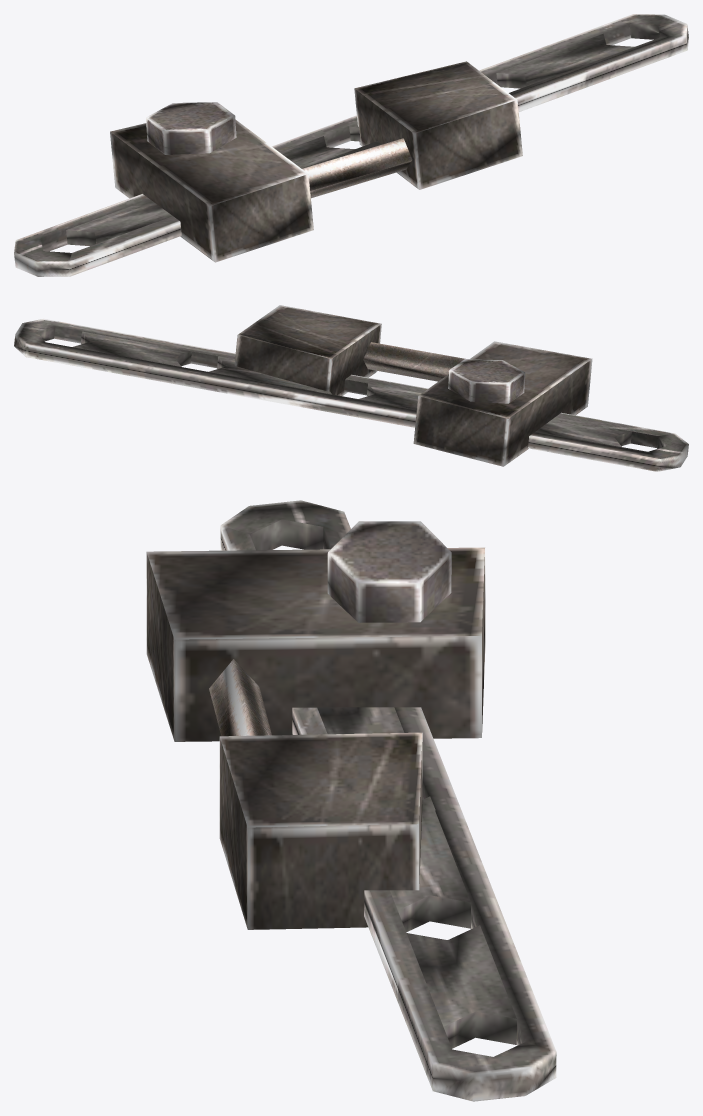
The model's file is Robot01.LeftShoulder1.fbx.
3 views of the same model, one above another, from view 1: azimuth 30°, elevation 25°; view 2: azimuth 150°, elevation 25°; view 3: azimuth 270°, elevation 25° (orthographic). The views are drawn at different scales.
Visible parts, largest first — view 1: Robot01.LeftShoulder1; view 2: Robot01.LeftShoulder1; view 3: Robot01.LeftShoulder1.
Part boxes in pixels (x1,y1,x2,y2): Robot01.LeftShoulder1: (14,14,688,276); Robot01.LeftShoulder1: (14,305,688,471); Robot01.LeftShoulder1: (146,500,556,1101).
Size of the model in its own units: 81.72 by 9.02 by 23.49.
